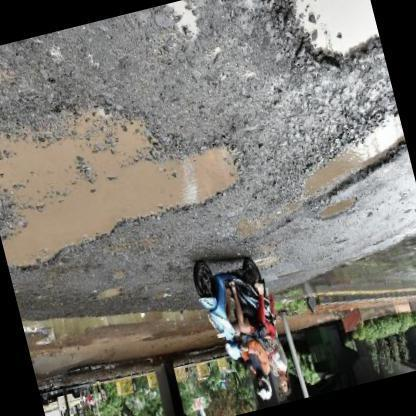pothole: (0, 100, 256, 270), (297, 110, 416, 224), (276, 0, 390, 72), (238, 204, 291, 244), (162, 2, 201, 48), (96, 284, 128, 306)
